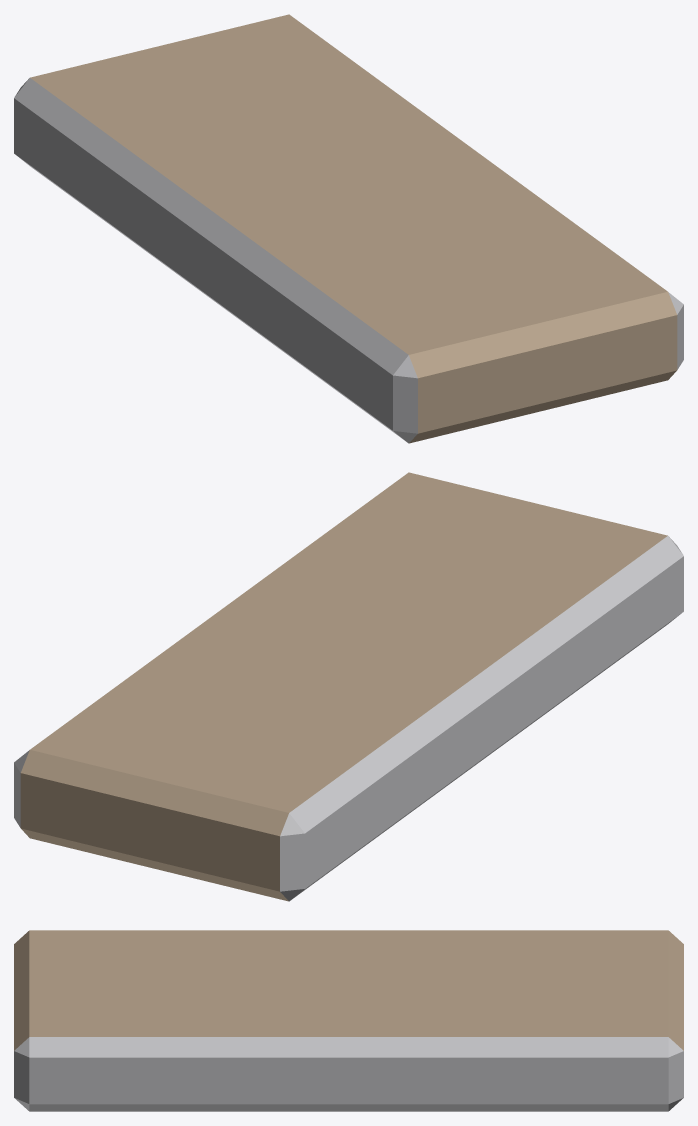
Rendered from veh_dray_far.glb.
3 renders of one model, top to bottom at view 1: azimuth 30°, elevation 25°; view 2: azimuth 150°, elevation 25°; view 3: azimuth 270°, elevation 25°, orthographic. The views are drawn at different scales.
Parts seen in each view (by area): view 1: dray_cart; view 2: dray_cart; view 3: dray_cart.
Boxes of the visible parts, x1,y1,x2,y2 form: dray_cart: (14,14,683,443); dray_cart: (14,472,683,901); dray_cart: (14,930,683,1111).
Size of the model in its own units: 0.055 by 0.016 by 0.13.
